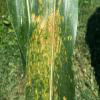Corn rust leaf: (24, 1, 77, 99)
